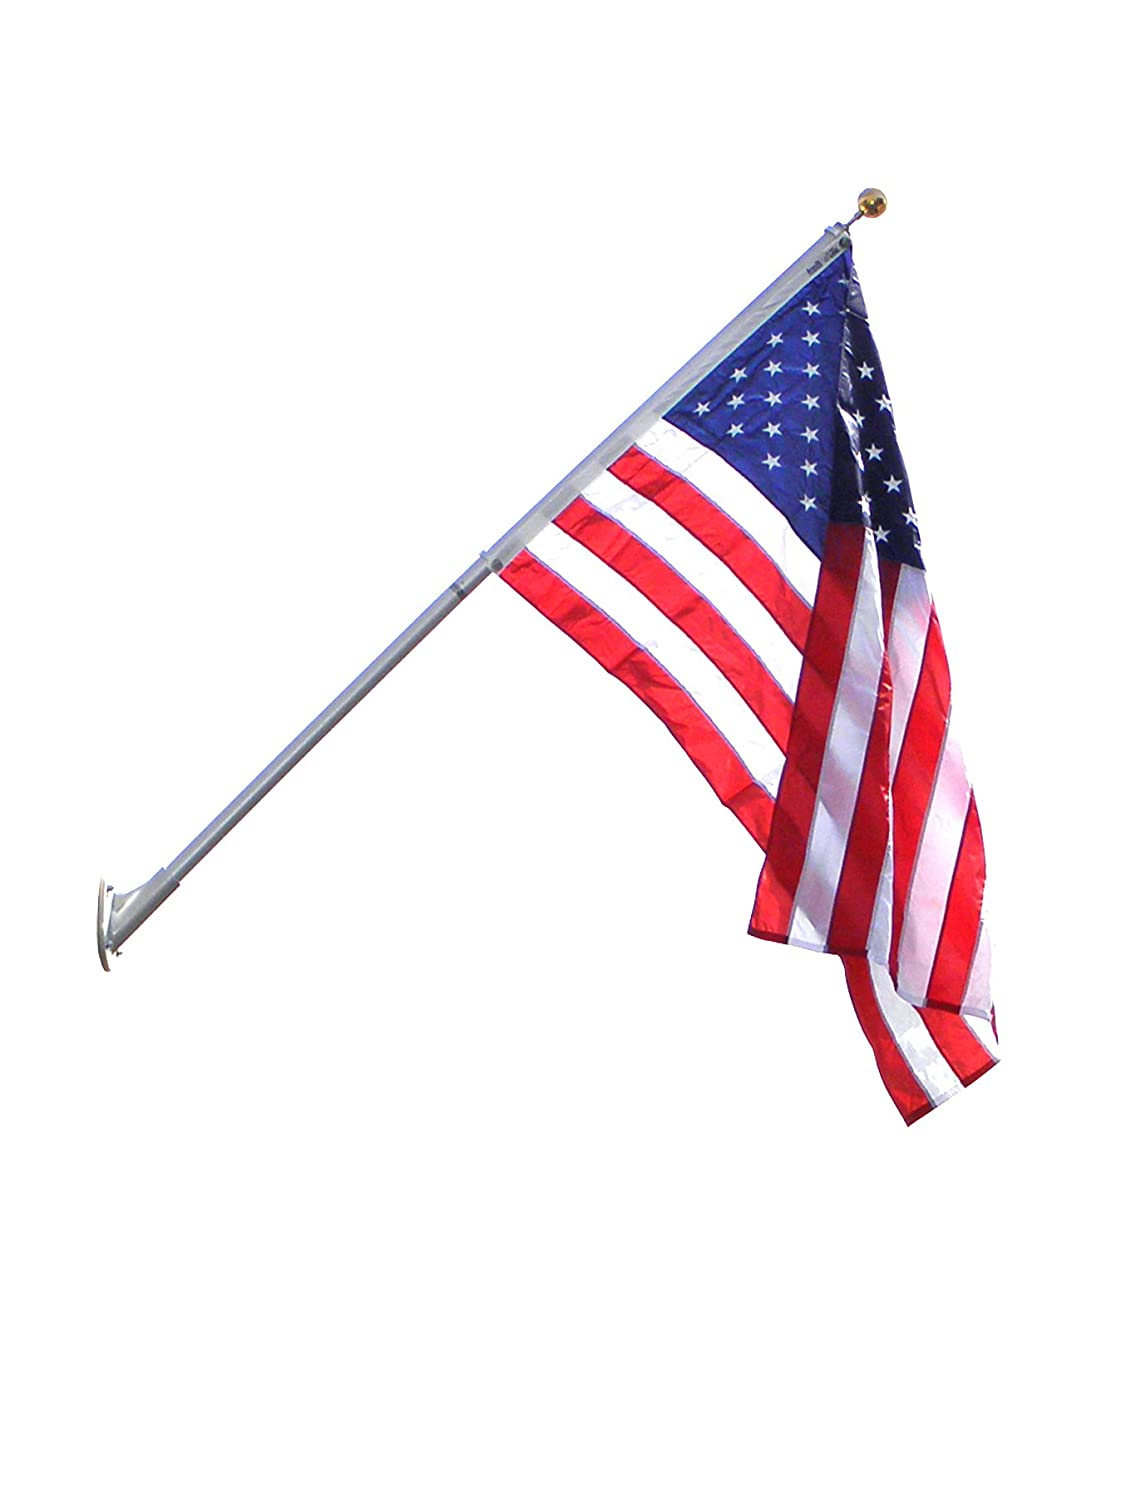America flag: (489, 227, 1015, 1135)
